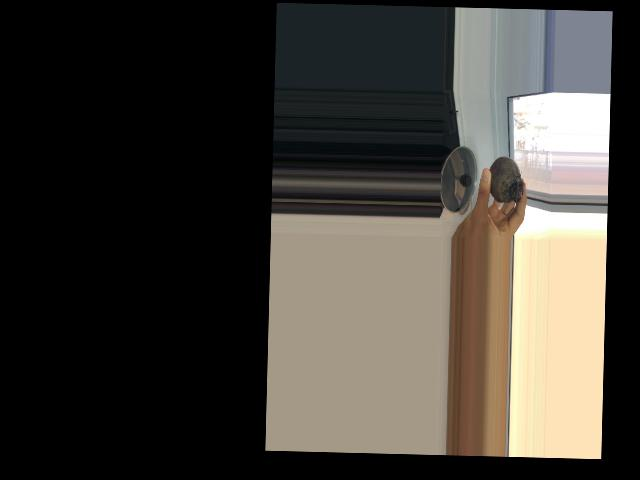beet: (487, 155, 524, 216)
